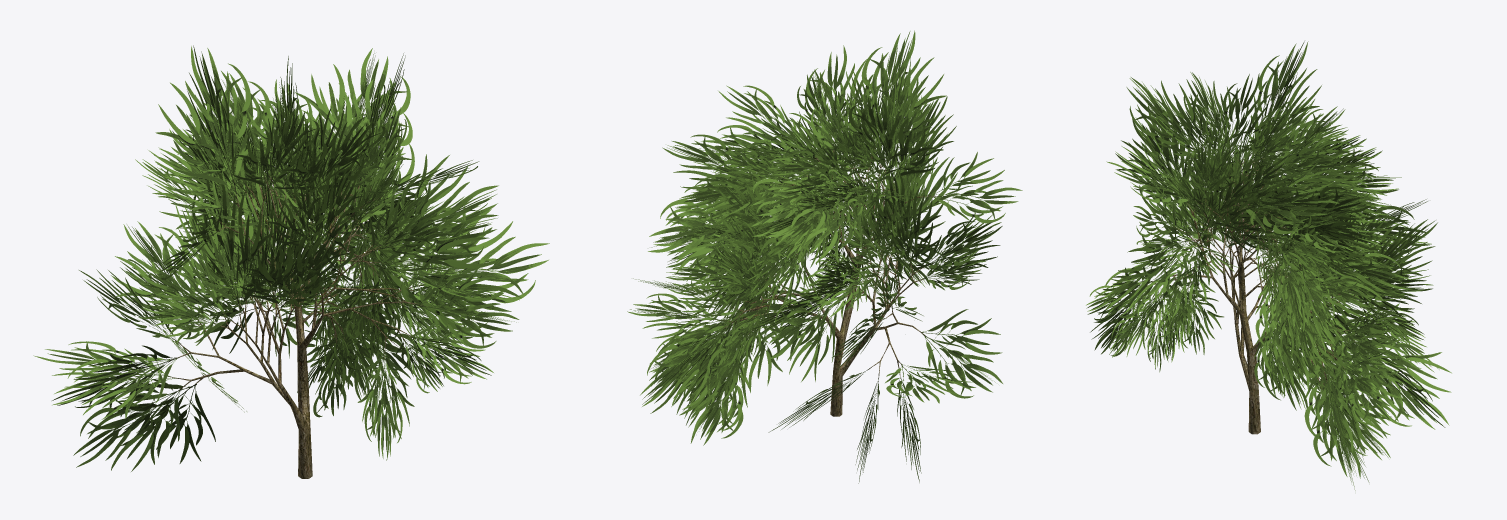
Rendered from SM_Bush.fbx.
3 views of the same model, side by side, from view 1: azimuth 30°, elevation 25°; view 2: azimuth 150°, elevation 25°; view 3: azimuth 270°, elevation 25° (orthographic). The views are drawn at different scales.
Visible parts, largest first — view 1: SM_Bush_LOD0; view 2: SM_Bush_LOD0; view 3: SM_Bush_LOD0.
Part boxes in pixels (x1,y1,x2,y2): SM_Bush_LOD0: (33, 45, 549, 478); SM_Bush_LOD0: (627, 30, 1022, 483); SM_Bush_LOD0: (1086, 41, 1451, 490).
Size of the model in its own units: 142 by 140 by 150.
Materials: 2 (2 with a texture image).
